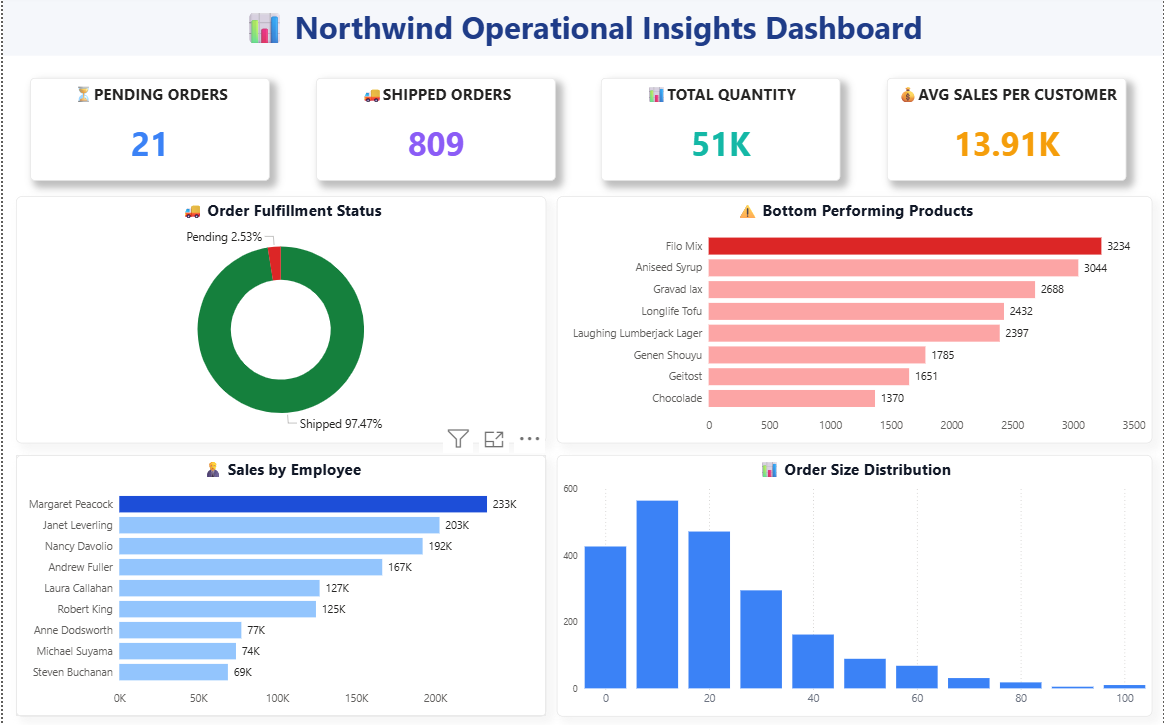

Layout of this report page (visuals, bound fields, positions):
{"tool":"powerbi","page":{"name":"Operational Insights","canvas":[1600,1000],"ordinal":1},"visuals":[{"type":"textbox","box":[0,0,1600,76.7],"z":0},{"type":"card","title":"⏳PENDING ORDERS","fields":{"Values":["order_details.Pending Orders"]},"box":[37.7,107.6,330,141.7],"z":1000},{"type":"card","title":"🚚SHIPPED ORDERS","fields":{"Values":["orders.Shipped Orders"]},"box":[431.6,107.6,330,141.7],"z":2000},{"type":"card","title":"📊TOTAL QUANTITY","fields":{"Values":["order_details.Total Quantity"]},"box":[825.6,107.6,330,141.7],"z":3000},{"type":"card","title":"💰AVG SALES PER CUSTOMER","fields":{"Values":["customers.Avg Sales per Customer"]},"box":[1219.6,107.6,330,141.7],"z":4000},{"type":"donutChart","title":"🚚 Order Fulfillment Status","fields":{"Category":["orders.Order Status"],"Y":["order_details.Total Orders"]},"box":[17.9,270.8,731.7,340.8],"z":5000},{"type":"clusteredBarChart","title":"👨💼 Sales by Employee","fields":{"Category":["employees.employeeName"],"Y":["order_details.Total Sales"]},"box":[17.9,627.7,731.7,360.5],"z":6000},{"type":"clusteredBarChart","title":"⚠️ Bottom Performing Products ","fields":{"Category":["products.productName"],"Y":["order_details.Total Sales"]},"box":[764,270.8,821.4,340.8],"z":7000},{"type":"clusteredColumnChart","title":"📊 Order Size Distribution","fields":{"Category":["order_details.quantity (bins)"],"Y":["CountNonNull(order_details.quantity)"]},"box":[764,627.7,821.4,360.5],"z":8000}]}

Visuals, with their boxes in screenshot pixels (x1, y1, x2, y2), scaled from the page's 1600x1000 canvas onto the 1164x725 screenshot:
textbox: BBox(0, 0, 1163, 56)
"⏳PENDING ORDERS" card: BBox(27, 78, 268, 181)
"🚚SHIPPED ORDERS" card: BBox(314, 78, 554, 181)
"📊TOTAL QUANTITY" card: BBox(601, 78, 841, 181)
"💰AVG SALES PER CUSTOMER" card: BBox(887, 78, 1127, 181)
"🚚 Order Fulfillment Status" donutChart: BBox(13, 196, 545, 443)
"👨💼 Sales by Employee" clusteredBarChart: BBox(13, 455, 545, 716)
"⚠️ Bottom Performing Products " clusteredBarChart: BBox(556, 196, 1153, 443)
"📊 Order Size Distribution" clusteredColumnChart: BBox(556, 455, 1153, 716)
